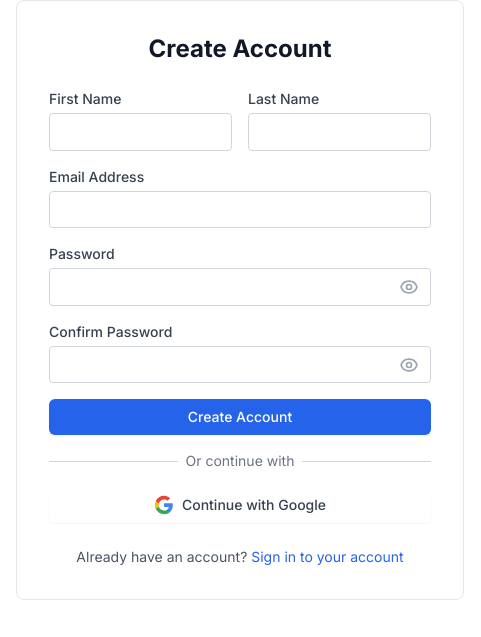
Test: RegistrationForm › should show password strength indicator
// Type weak password
Type "weak" into the password field labelled "Password" at coordinates (240, 287), box top-left (49, 268), bottom-right (431, 306)
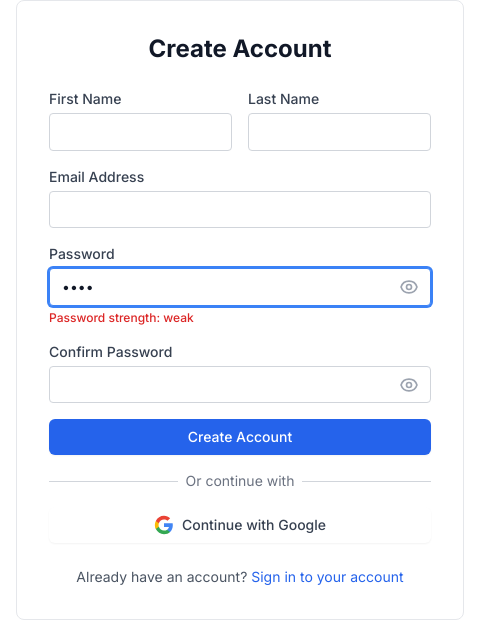
Result: the text "Password strength: weak" is shown at top-left (49, 310), bottom-right (194, 325)
// Type medium password
Type "medium123" into the password field labelled "Password" at coordinates (240, 287), box top-left (49, 268), bottom-right (431, 306)
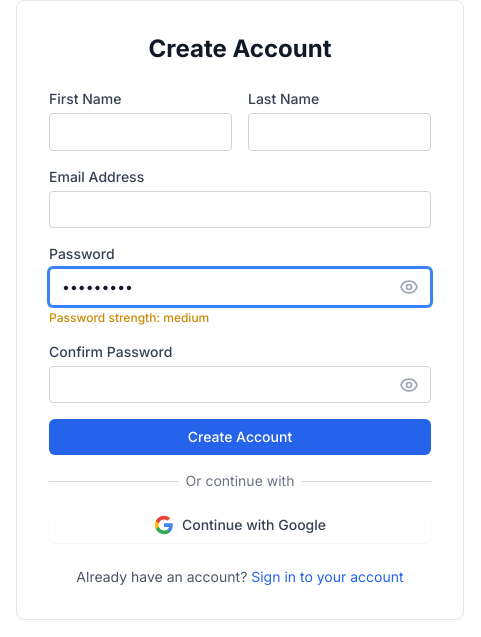
Result: the text "Password strength: medium" is shown at top-left (49, 310), bottom-right (209, 325)
// Type strong password
Type "StrongPassword123!" into the password field labelled "Password" at coordinates (240, 287), box top-left (49, 268), bottom-right (431, 306)
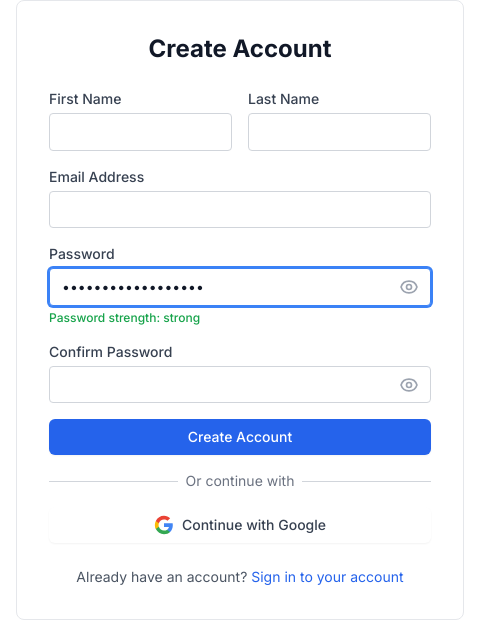
Result: the text "Password strength: strong" is shown at top-left (49, 310), bottom-right (200, 325)
